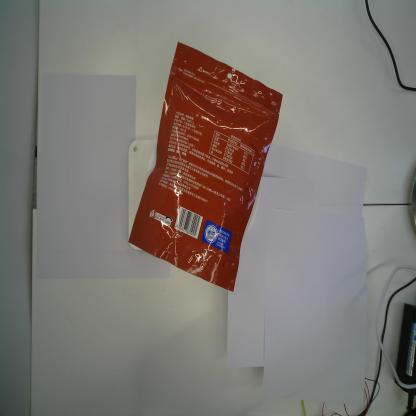Dried Food: (129, 38, 283, 292)
